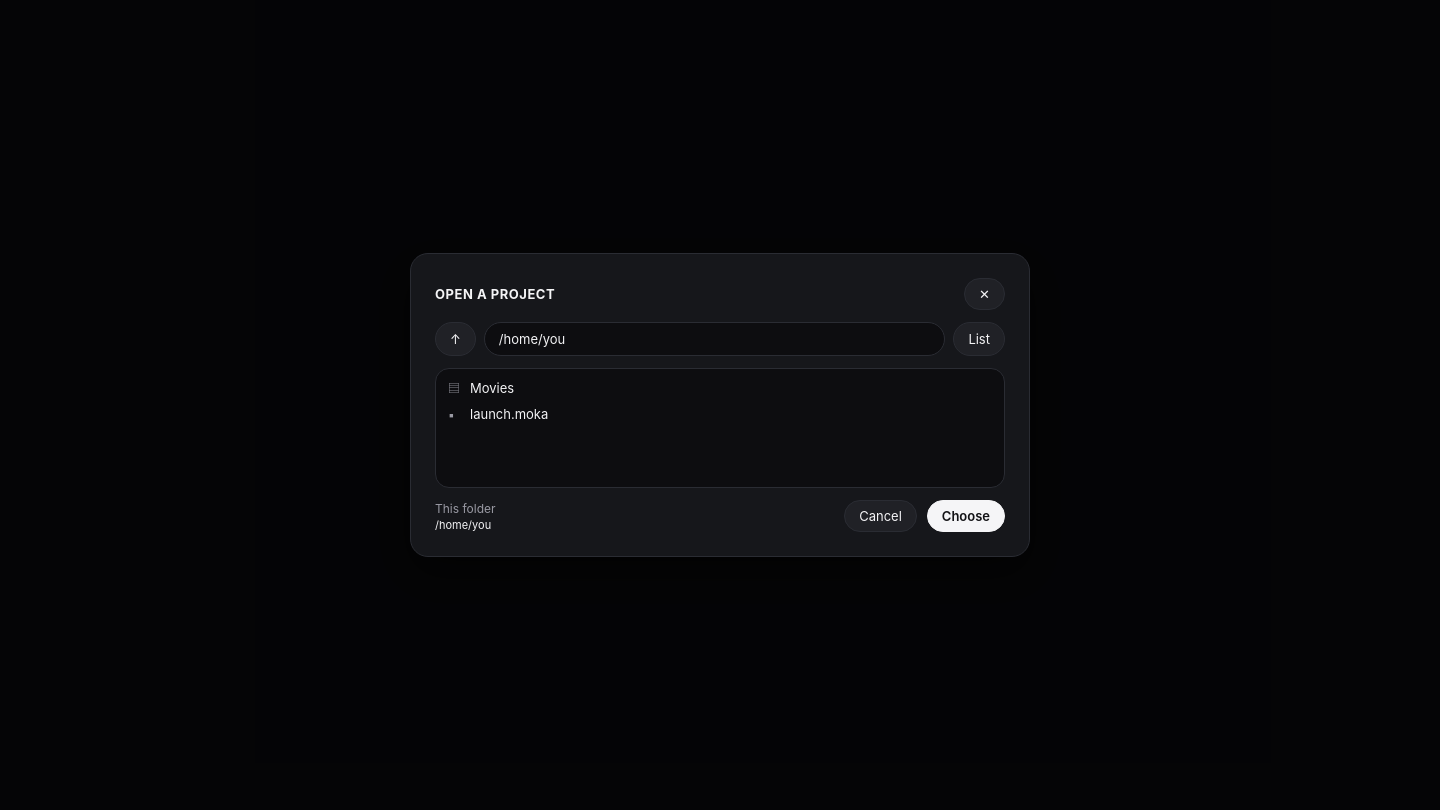
Test: the file dialog a browser has to draw itself › walks into a folder and back out of it
This screenshot has width=1440, height=810.
Click the button with test id "path-browser-row-Movies". click: (492, 388)
box: x1=442 y1=375 x2=998 y2=400
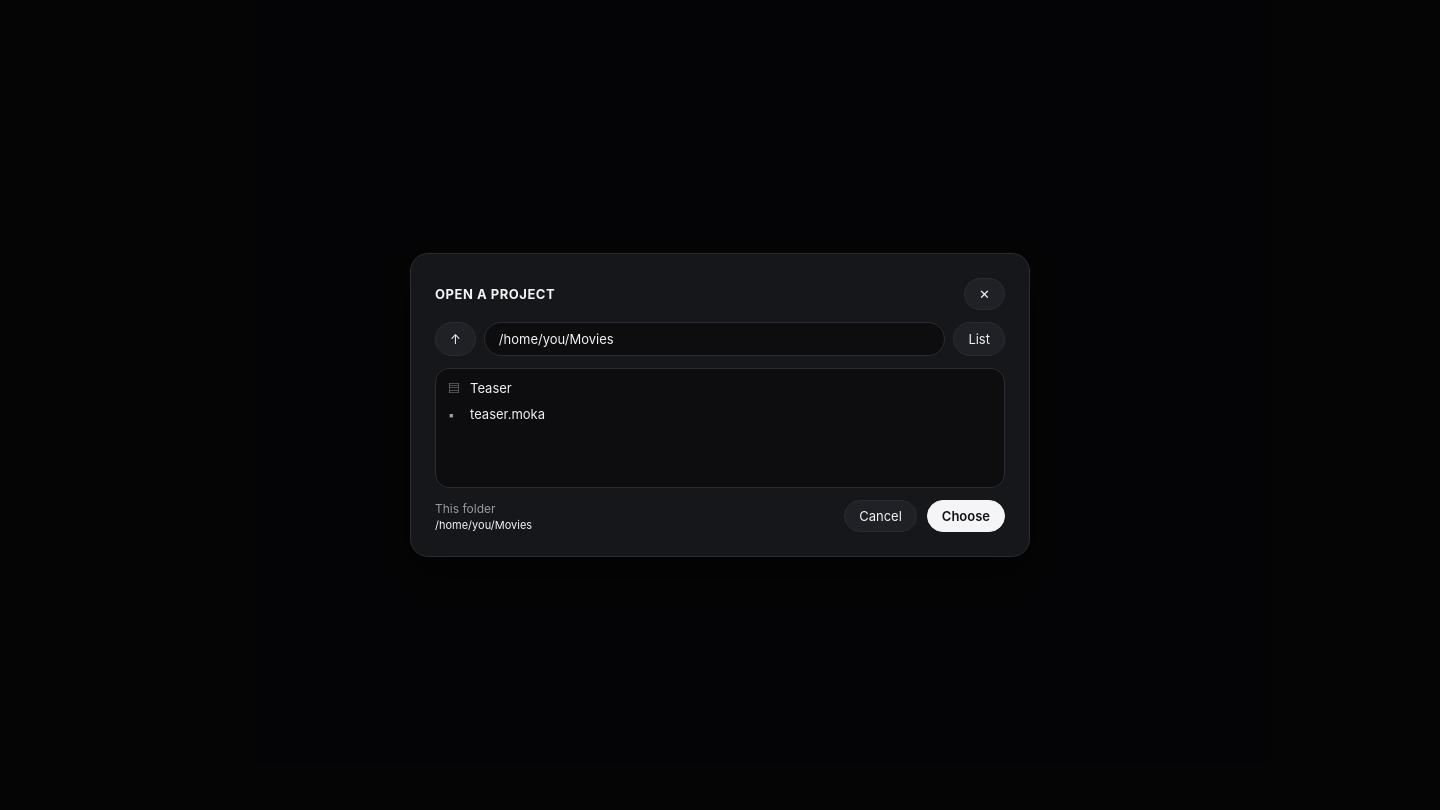
Check: the button with test id "path-browser-row-teaser.moka" is shown, box x1=442 y1=402 x2=998 y2=426
Check: the text "/home/you/Movies" is shown, box x1=435 y1=518 x2=532 y2=532
Click the button named "Up one folder". click: (455, 339)
box: x1=435 y1=322 x2=476 y2=356
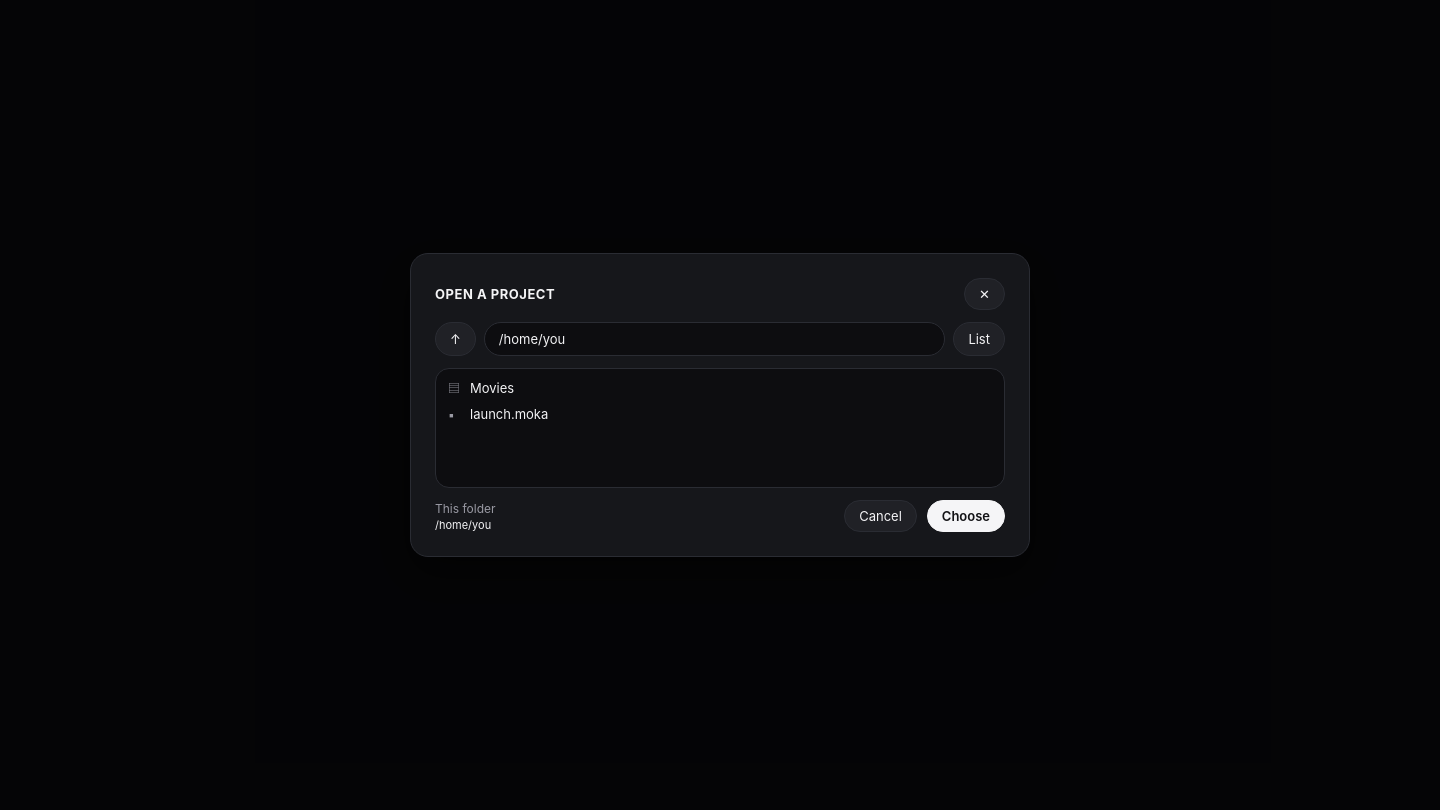
Check: the text "/home/you" is shown, box x1=435 y1=518 x2=496 y2=532
